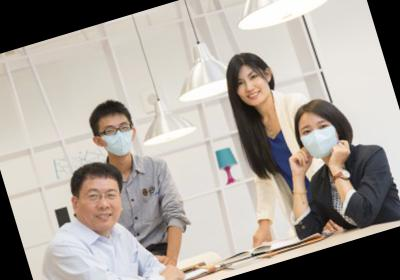with_mask: (296, 114, 345, 165), (94, 116, 141, 163)
without_mask: (73, 176, 131, 237), (234, 67, 274, 110)
